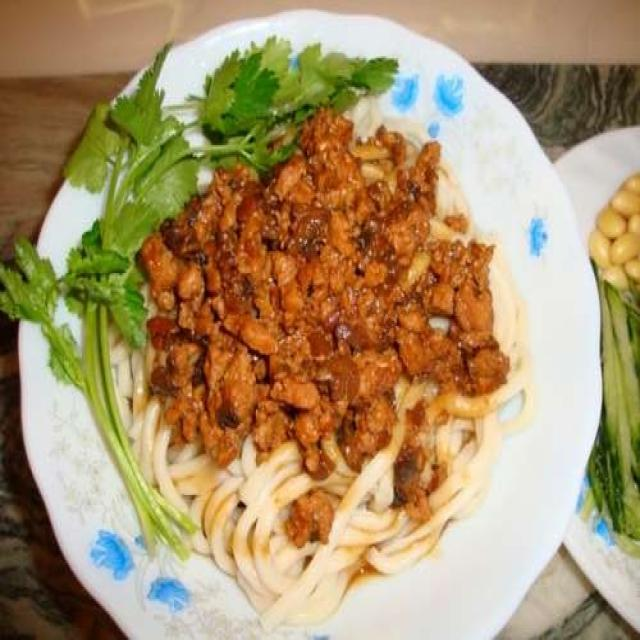面条主食: (73, 48, 549, 585)
